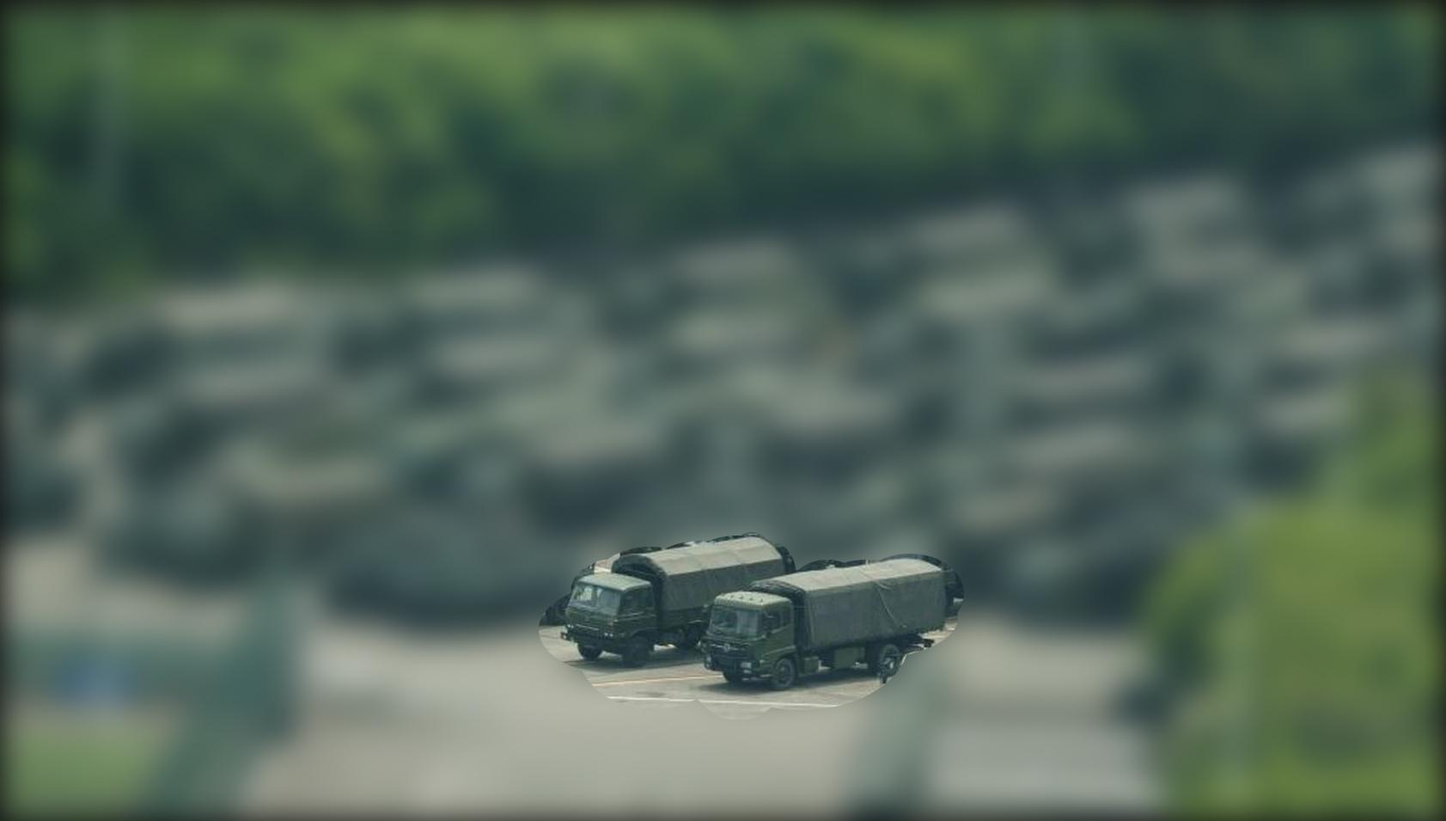truck: (698, 554, 968, 691), (551, 533, 798, 668)
